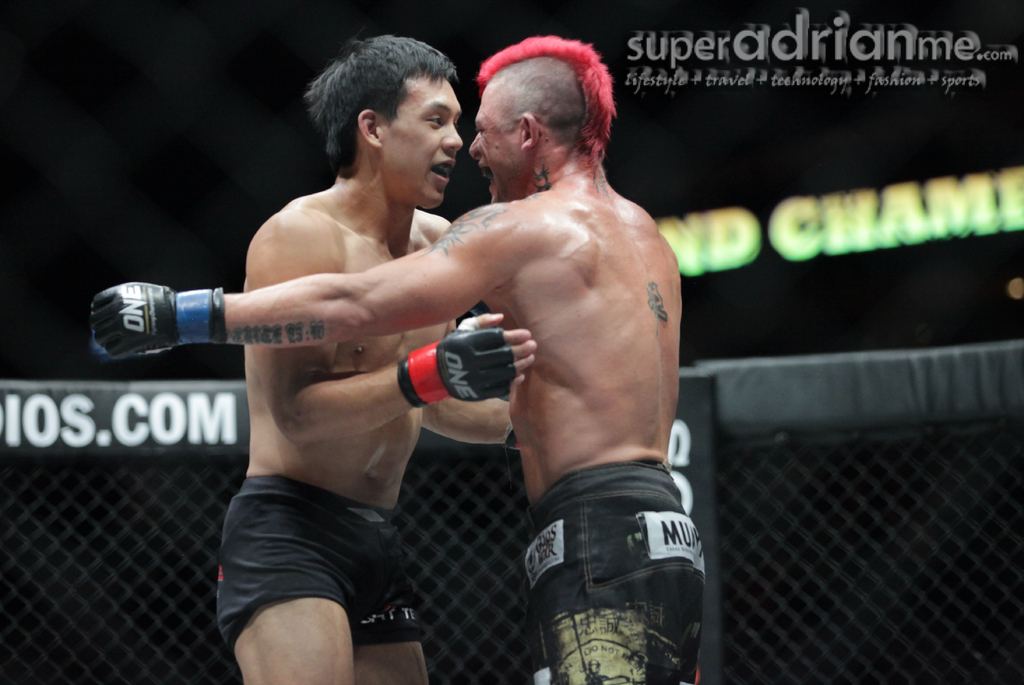Person: (213, 32, 522, 685)
